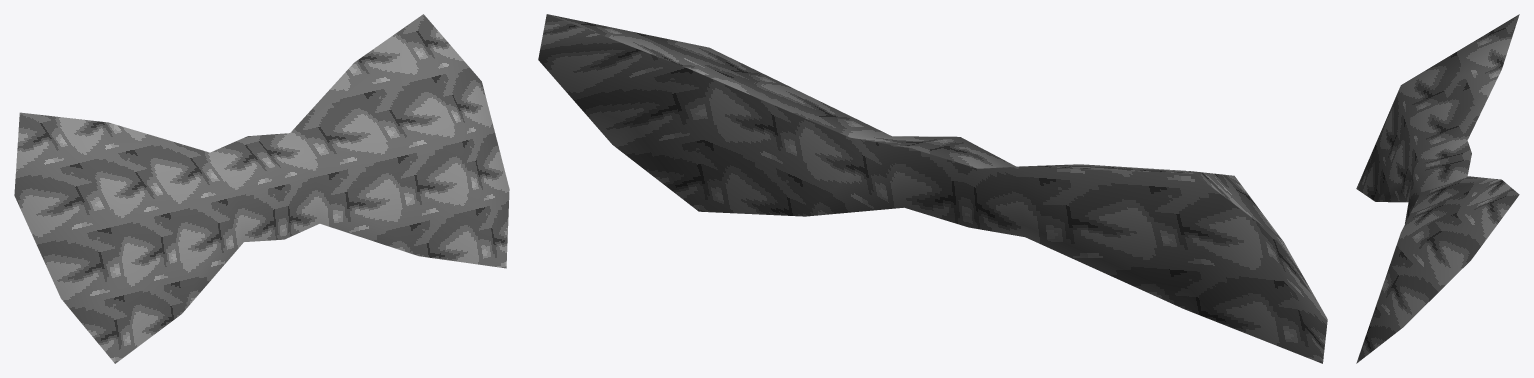
Rendered from code_head94.gltf.
3 views of the same model, side by side, from view 1: azimuth 30°, elevation 25°; view 2: azimuth 150°, elevation 25°; view 3: azimuth 270°, elevation 25° (orthographic). The views are drawn at different scales.
Visible parts, largest first — view 1: code_head94; view 2: code_head94; view 3: code_head94.
Boxes of the visible parts, left/top/right/bottom form: code_head94: left=14, top=14, right=509, bottom=363; code_head94: left=538, top=14, right=1327, bottom=363; code_head94: left=1356, top=14, right=1519, bottom=363.
Bounding box in the file's own units: 0.7495 × 0.2876 × 0.2476.
1 material, 1 textured.
